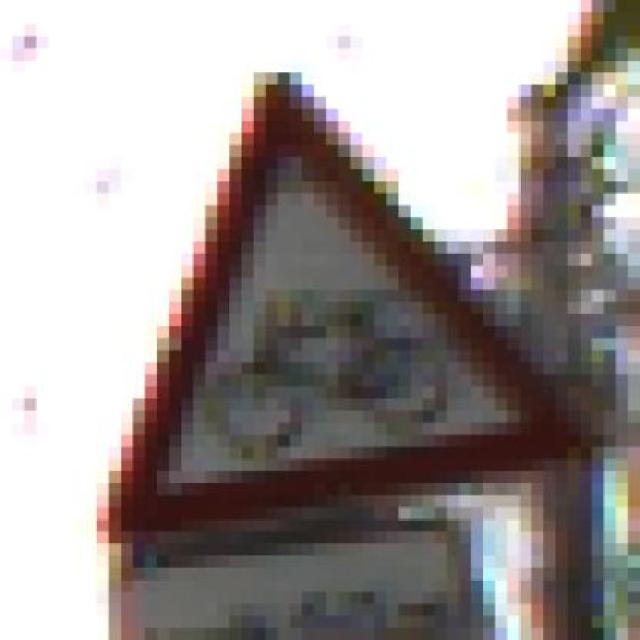CYCLE ROUTE AHEAD WARNING: (48, 71, 604, 532)
